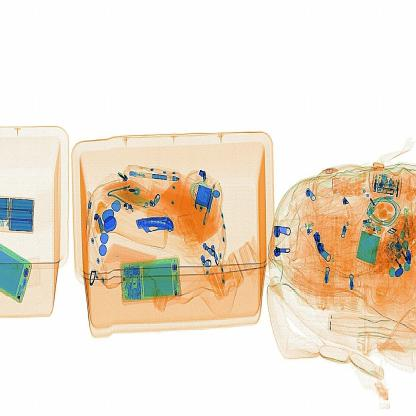knife: (131, 214, 182, 243)
